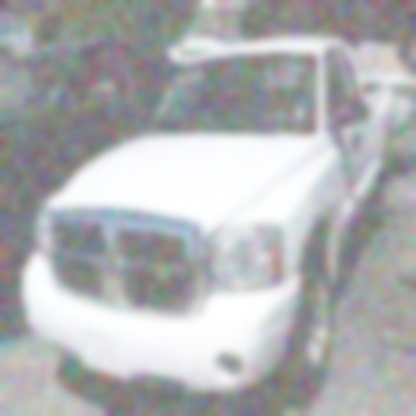Vehicle: (22, 37, 404, 407)
